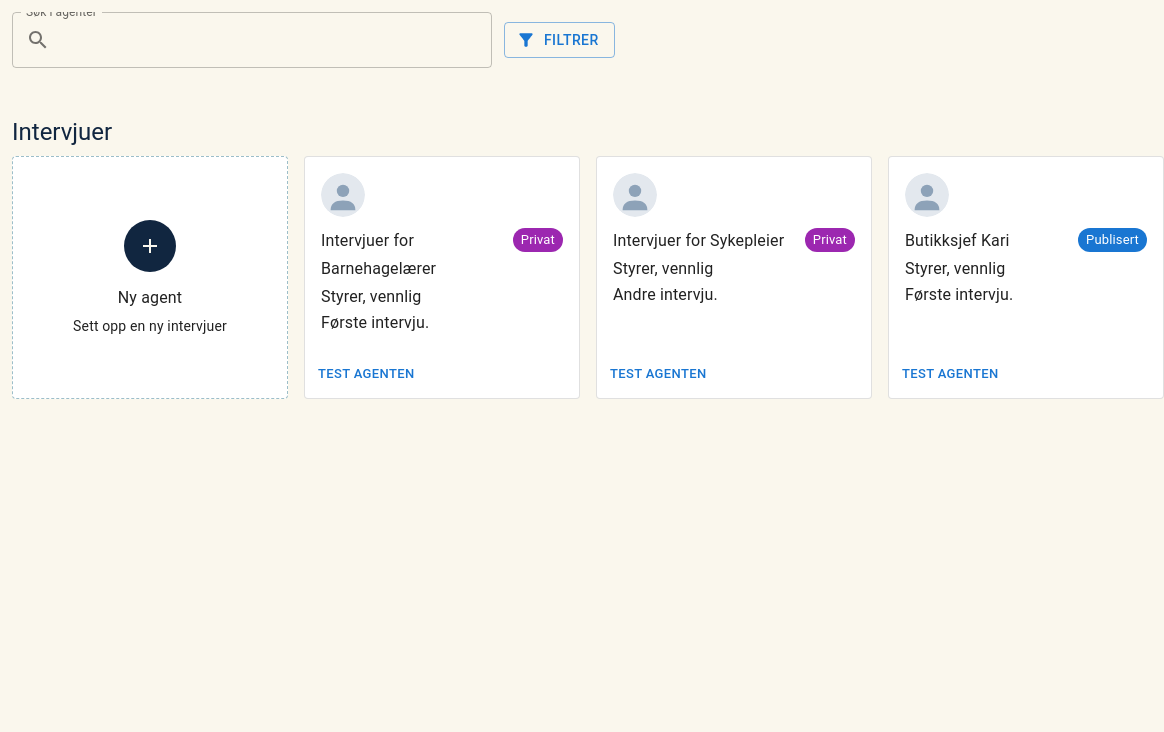
it: AgentList › filters › combines the filters, and hides Ny agent while filtering
Later steps or results of the test are not shown.
Click the button "Filtrer" at {"x": 559, "y": 40}, box [504,22,614,58]
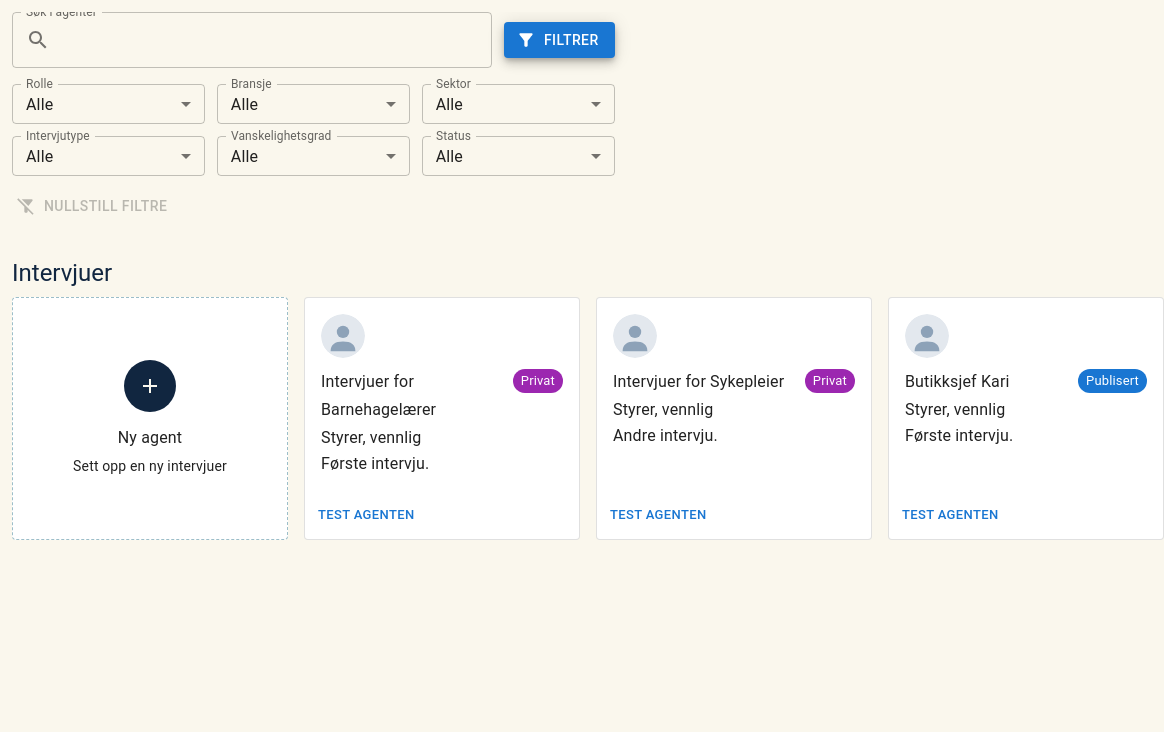
Click the dropdown named "Sektor" at {"x": 449, "y": 104}, box [436,94,463,114]
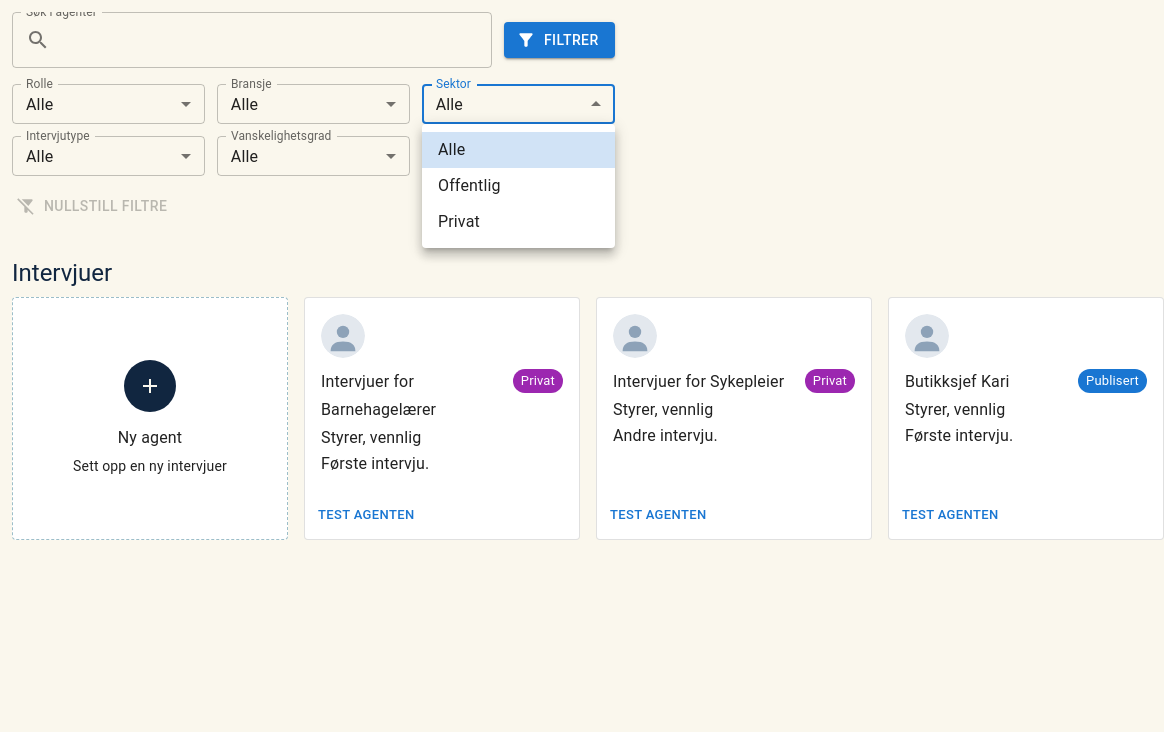
Click the option "Offentlig" at {"x": 469, "y": 186}, box [438,176,501,195]
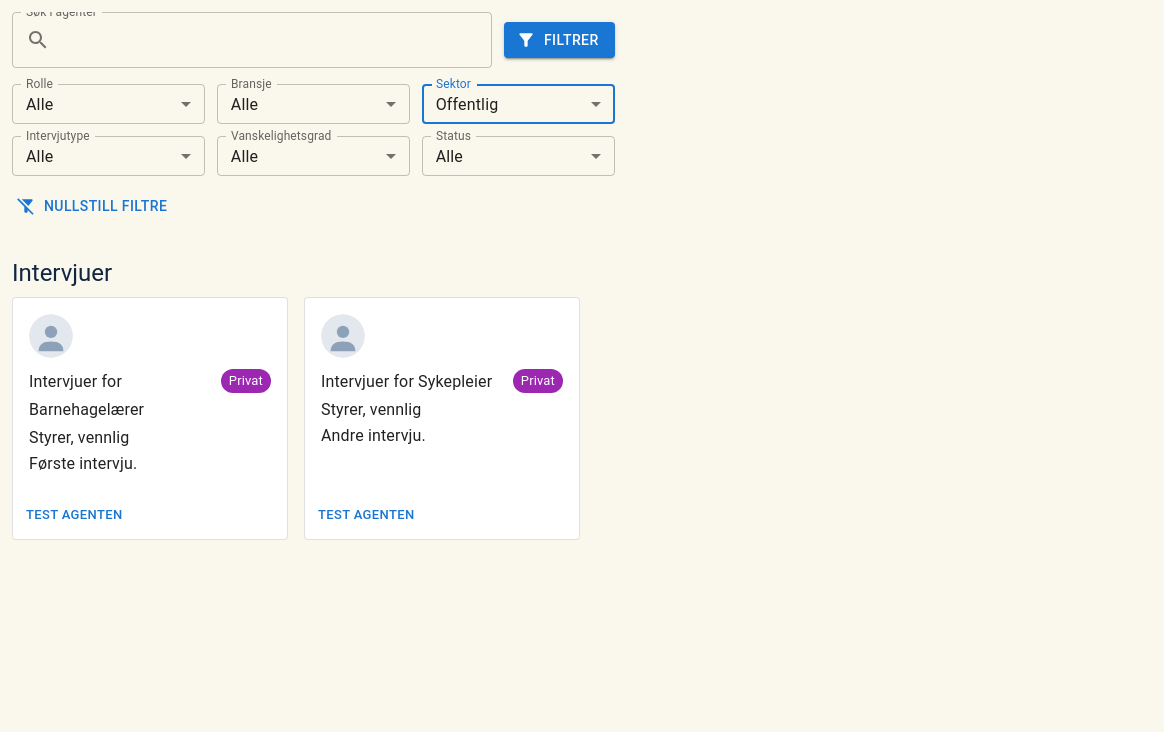
Now the button "Ny agent" is gone
